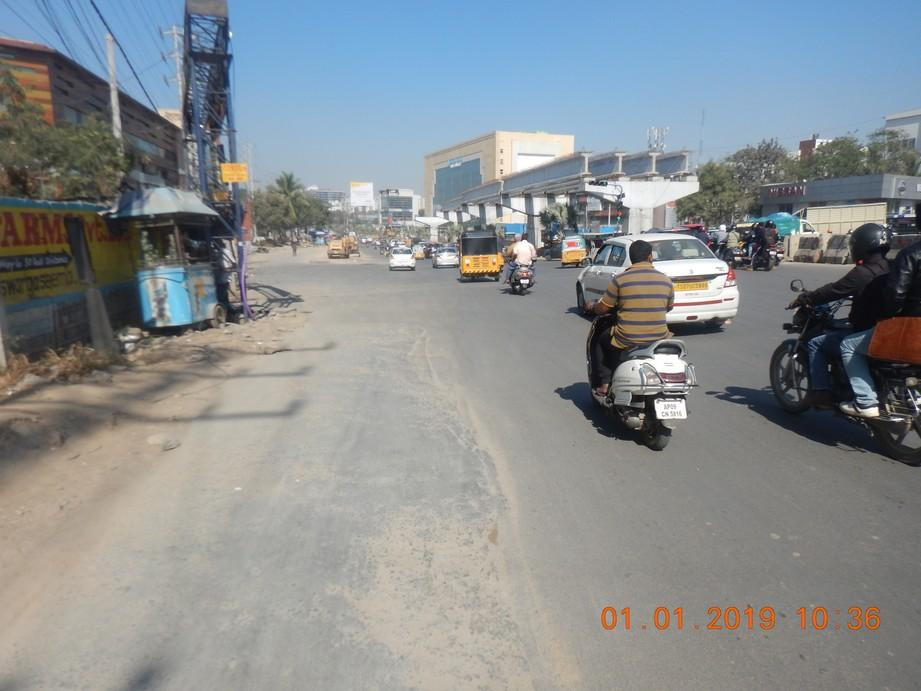plate: (654, 400, 689, 419)
